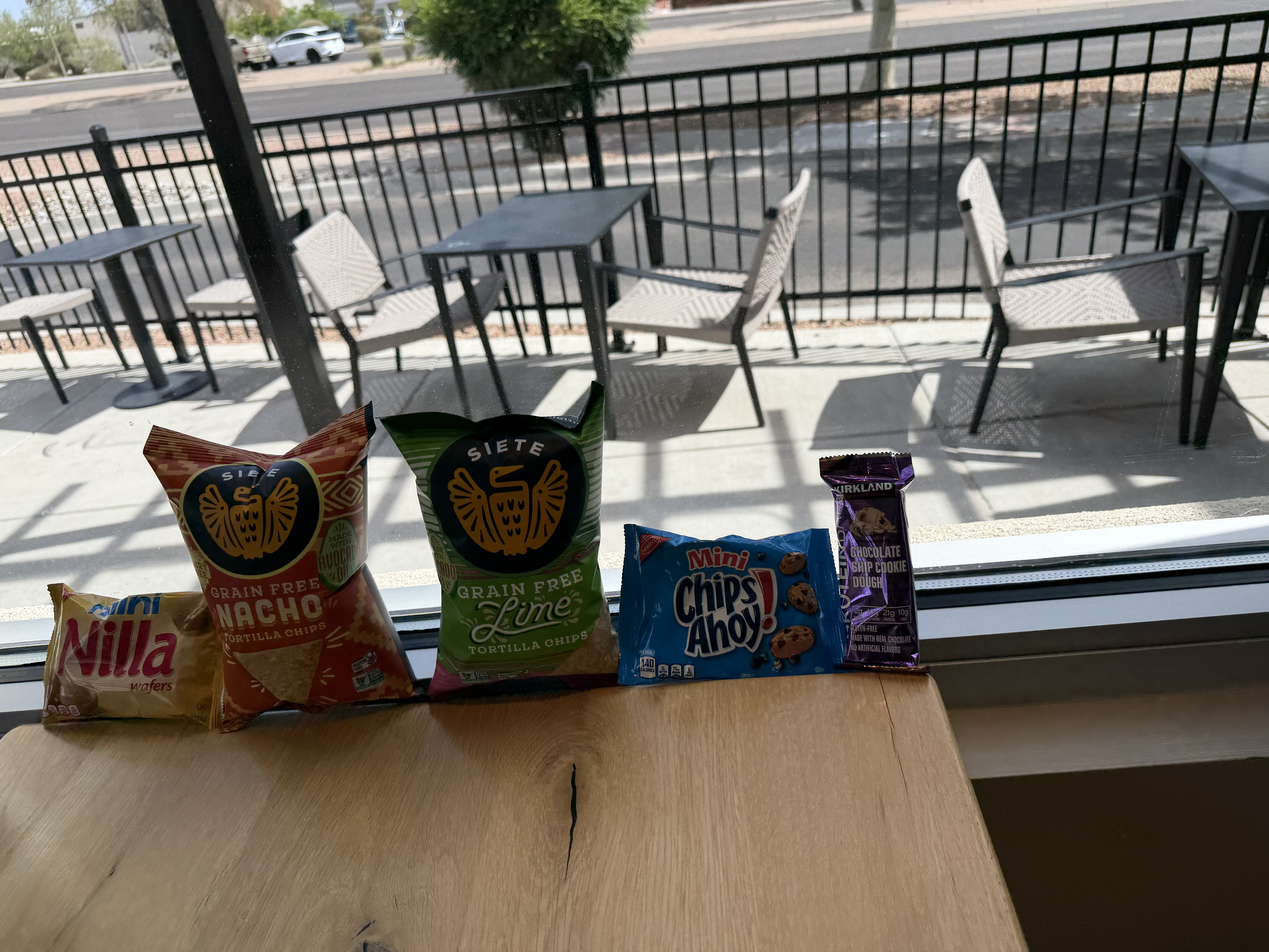chips_ahoy: (620, 523, 830, 685)
chocolate_chip_cookie_dough: (812, 449, 962, 692)
lime: (401, 377, 605, 715)
nacho: (142, 407, 427, 726)
nilla: (37, 574, 236, 741)
